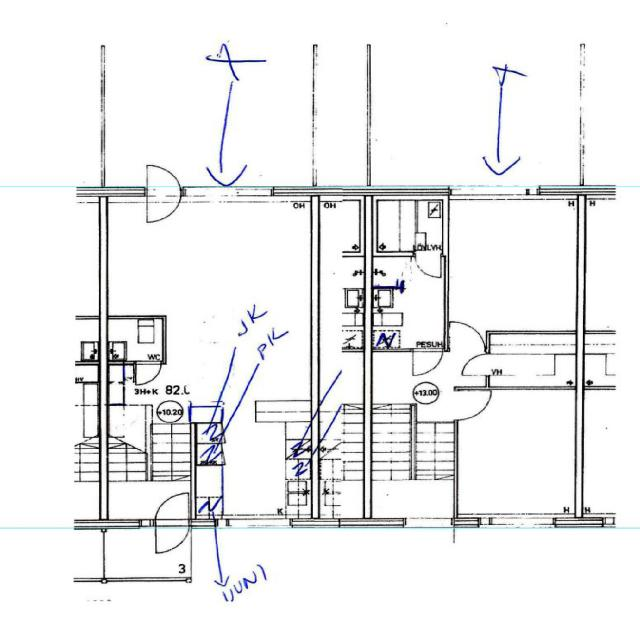door: (147, 159, 180, 202), (147, 187, 180, 230), (156, 491, 188, 527), (156, 519, 188, 554), (454, 392, 491, 419), (451, 321, 483, 351), (413, 348, 442, 376), (415, 251, 440, 278), (460, 354, 490, 374), (136, 361, 160, 385)
